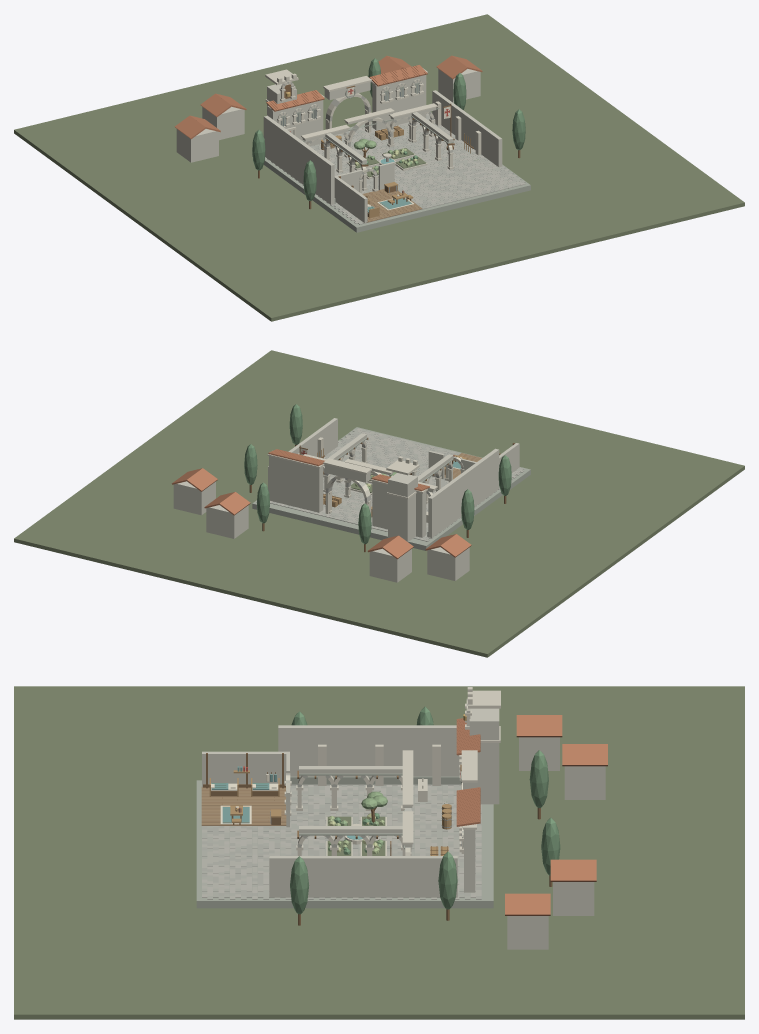
File: convento.glb
The picture shows the model from 3 angles, top to bottom: view 1: azimuth 30°, elevation 25°; view 2: azimuth 150°, elevation 25°; view 3: azimuth 270°, elevation 25°; orthographic projection. The views are drawn at different scales.
Parts seen in each view (by area): view 1: Terra, Cal morna, Cantaria clara, Telha, Calcário_1, Pedra antiga, Calcário_3, Calcário_2, Calcário_0, Folhagem_0, Madeira encerada, Castanho; view 2: Terra, Cal morna, Telha, Cantaria clara, Folhagem_0, Pedra antiga, Calcário_1, Calcário_0, Calcário_2, Calcário_3; view 3: Terra, Cal morna, Pedra antiga, Telha, Cantaria clara, Calcário_1, Calcário_2, Calcário_3, Calcário_0, Folhagem_0, Castanho, Madeira encerada (+5 smaller).
Part boxes in pixels (box(x1,y1,x2,y2)): Terra: box(14, 14, 744, 321); Cal morna: box(176, 69, 502, 222); Cantaria clara: box(265, 68, 481, 194); Telha: box(174, 55, 482, 139); Calcário_1: box(265, 79, 520, 223); Pedra antiga: box(252, 82, 530, 232); Calcário_3: box(275, 113, 525, 223); Calcário_2: box(267, 113, 516, 217); Calcário_0: box(283, 117, 525, 224); Folhagem_0: box(252, 58, 525, 210); Madeira encerada: box(321, 126, 470, 218); Castanho: box(258, 84, 520, 220); Terra: box(14, 350, 744, 657); Cal morna: box(173, 418, 519, 582); Telha: box(171, 449, 471, 559); Cantaria clara: box(267, 437, 464, 522); Folhagem_0: box(244, 404, 511, 544); Pedra antiga: box(252, 427, 530, 550); Calcário_1: box(270, 430, 523, 540); Calcário_0: box(275, 429, 523, 541); Calcário_2: box(270, 433, 499, 539); Calcário_3: box(271, 428, 519, 537); Terra: box(14, 686, 744, 1019); Cal morna: box(202, 708, 605, 949); Pedra antiga: box(196, 771, 493, 908); Telha: box(456, 715, 607, 915); Cantaria clara: box(284, 687, 500, 855); Calcário_1: box(202, 699, 481, 899); Calcário_2: box(202, 784, 481, 899); Calcário_3: box(202, 784, 481, 897); Calcário_0: box(202, 784, 481, 899); Folhagem_0: box(212, 706, 560, 914); Castanho: box(203, 753, 552, 925); Madeira encerada: box(209, 770, 451, 855).
Size of the model in its own units: 68 by 11.64 by 64.
